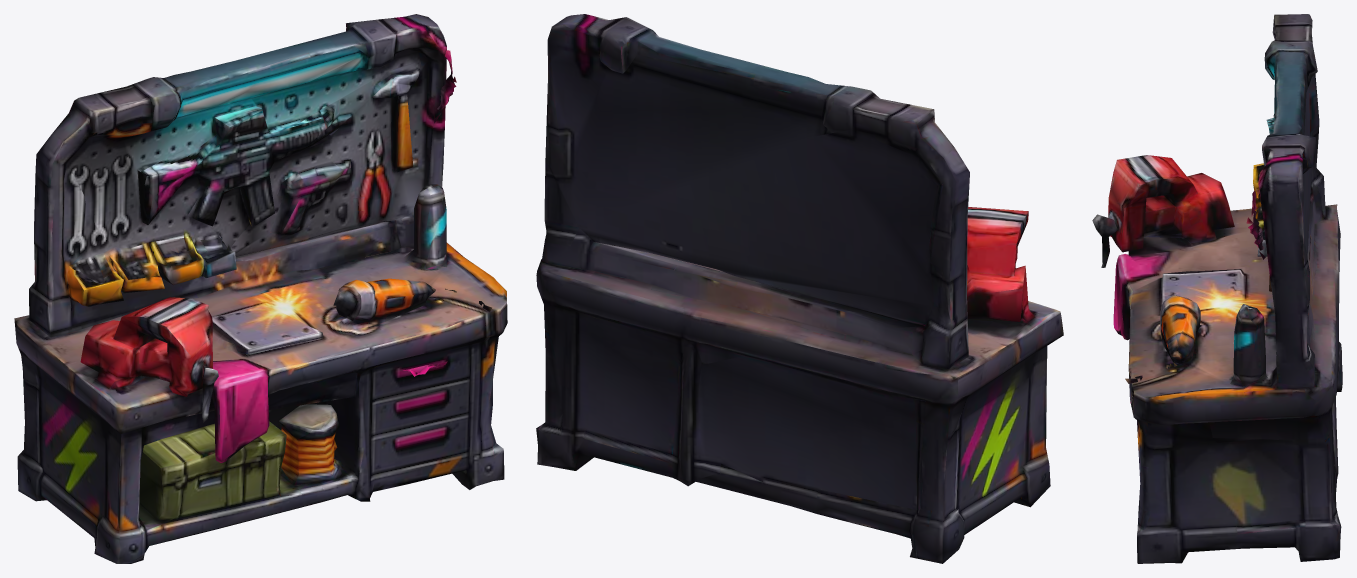
Rendered from GW_INT_weapon_bench.glb.
The picture shows the model from 3 angles, left to right: view 1: azimuth 30°, elevation 25°; view 2: azimuth 150°, elevation 25°; view 3: azimuth 270°, elevation 25°; orthographic projection. The views are drawn at different scales.
Parts seen in each view (by area): view 1: tripo_node_786faf06-53f0-4b14-bd18-ff9d144b71fd; view 2: tripo_node_786faf06-53f0-4b14-bd18-ff9d144b71fd; view 3: tripo_node_786faf06-53f0-4b14-bd18-ff9d144b71fd.
Part boxes in pixels (x1,y1,x2,y2): tripo_node_786faf06-53f0-4b14-bd18-ff9d144b71fd: [14, 14, 507, 563]; tripo_node_786faf06-53f0-4b14-bd18-ff9d144b71fd: [536, 14, 1063, 563]; tripo_node_786faf06-53f0-4b14-bd18-ff9d144b71fd: [1092, 14, 1342, 563].
Bounding box in the file's own units: 0.9983 × 0.9637 × 0.5439.
Materials: 1 (1 with a texture image).
